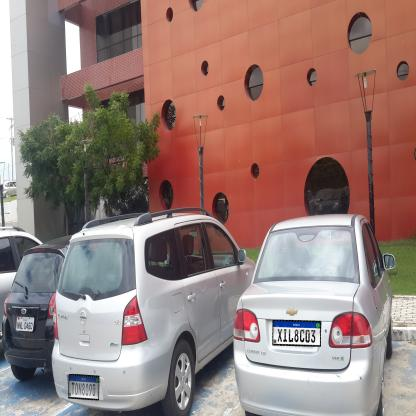PlacaM: (272, 320, 321, 347), (68, 374, 100, 400)
